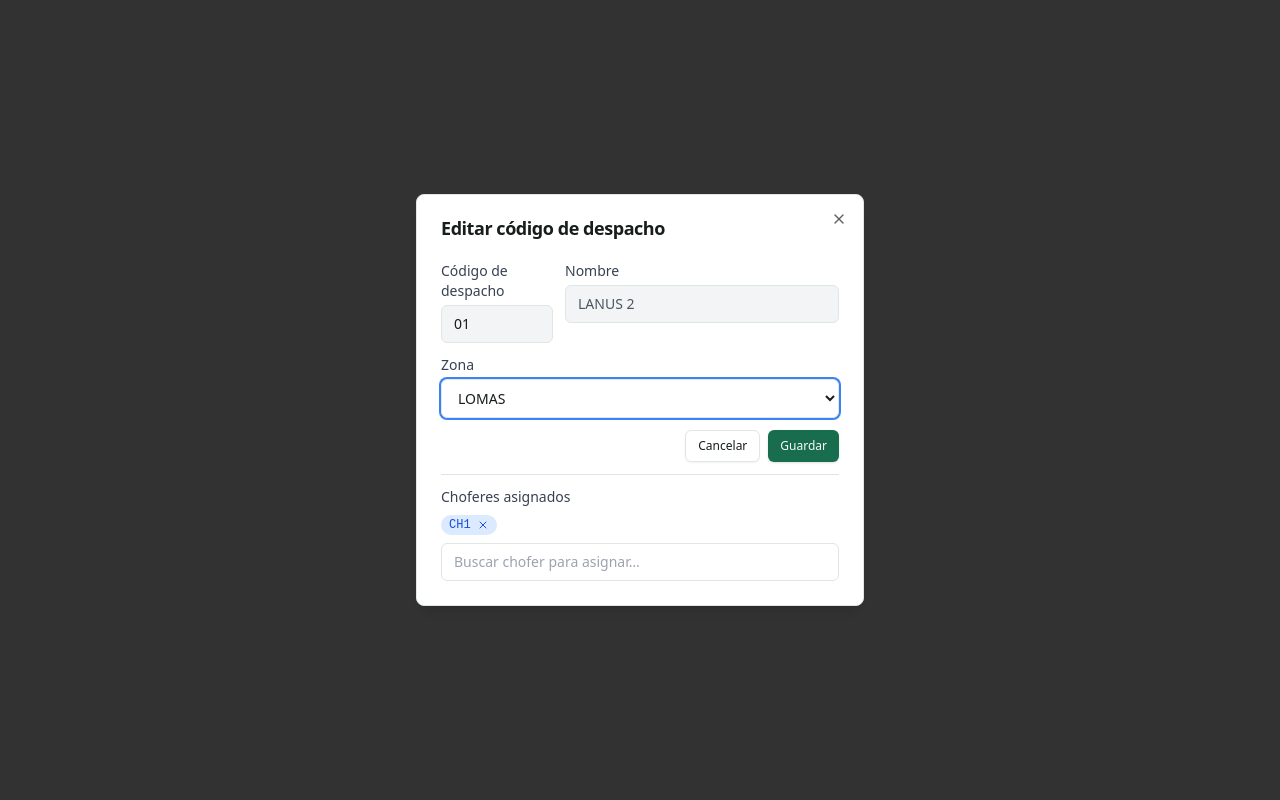
Scenario: RutaModal › elegir un chofer de la lista limpia la búsqueda tras asignarlo
In the field with placeholder "Buscar chofer para asignar…": {"x": 640, "y": 562} [441,543,839,581], type "gar"
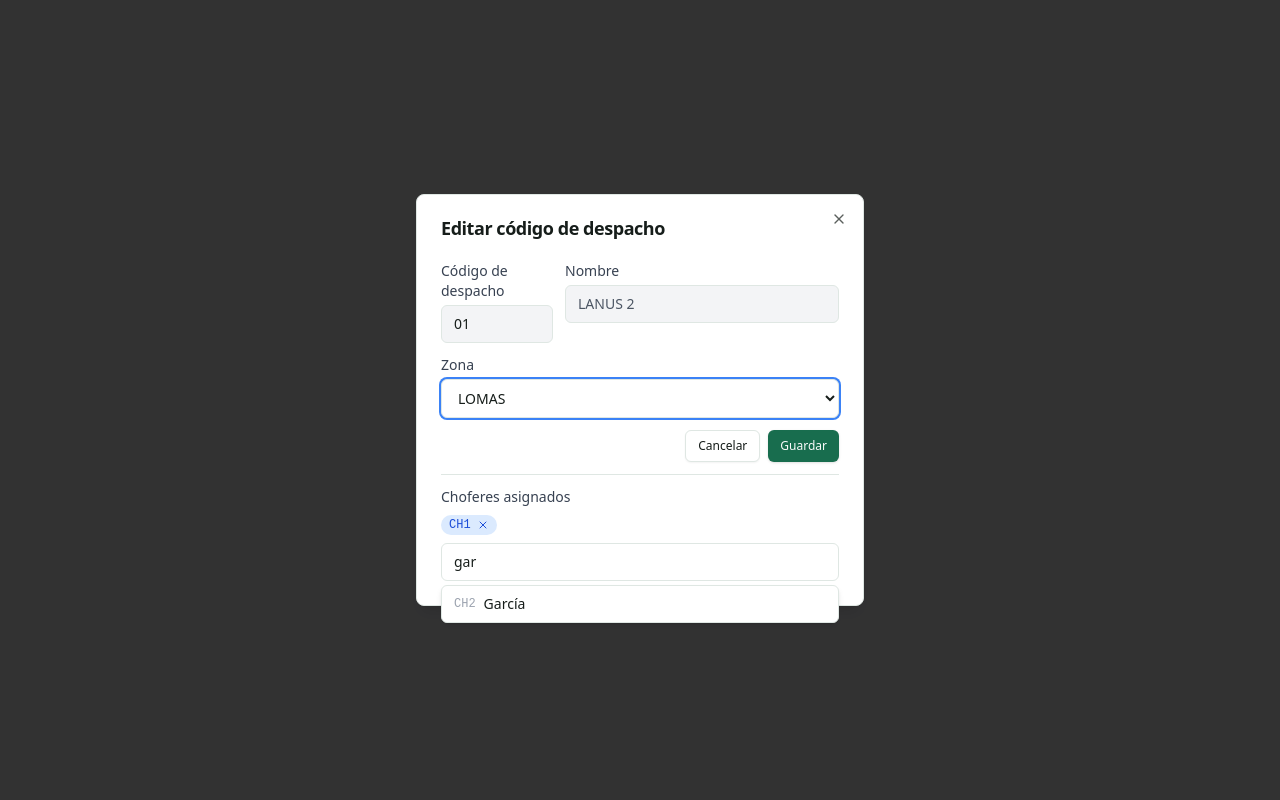
Click the text "García": {"x": 504, "y": 604} [484,594,525,614]
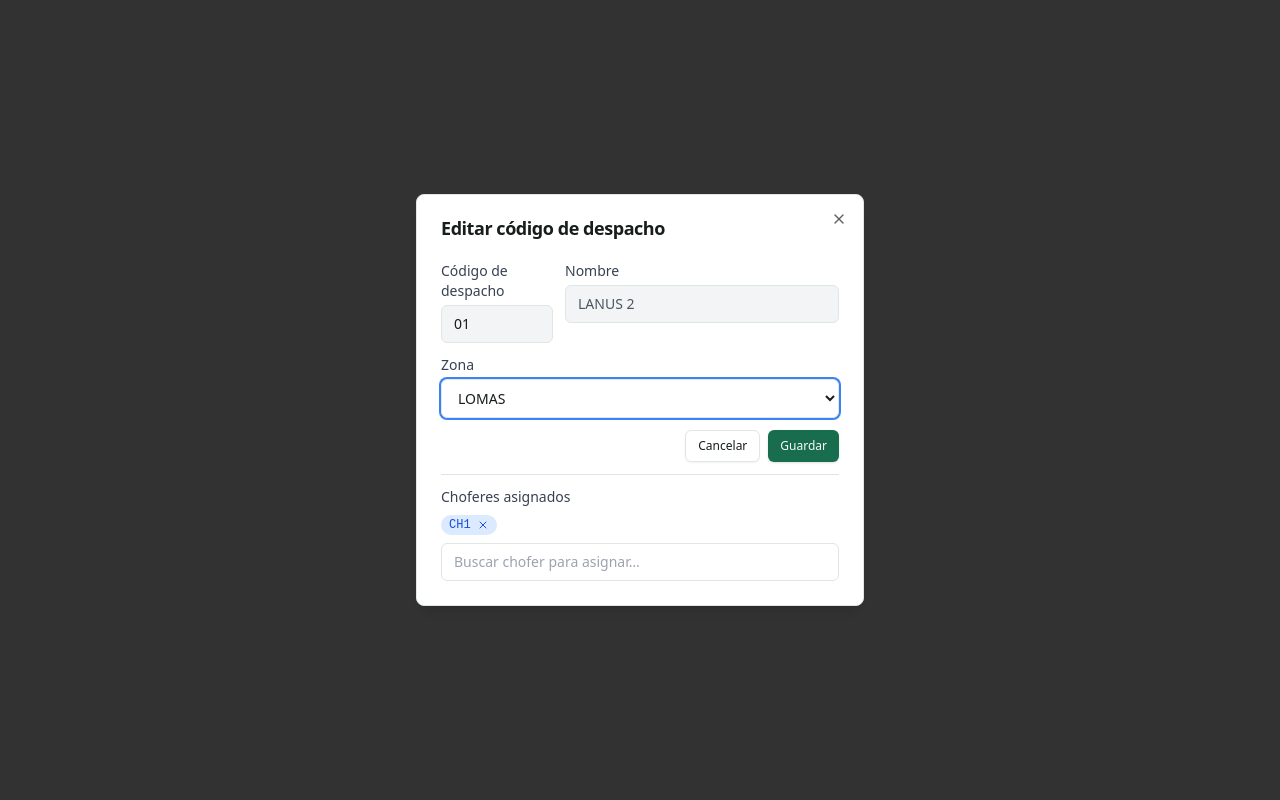
Result: the field with placeholder "Buscar chofer para asignar…" is empty at [441,543,839,581]
Result: the text "García" is gone
